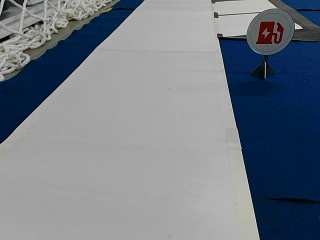battery: (246, 6, 294, 55)
